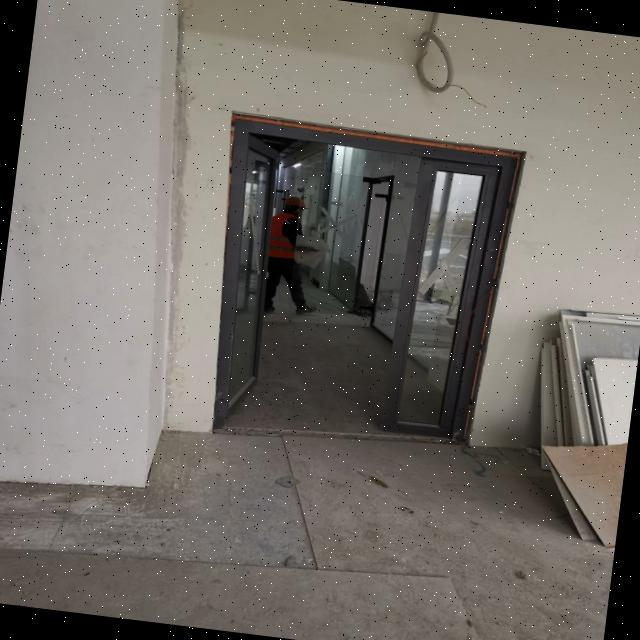Helmet: (283, 196, 310, 212)
Jacket: (267, 210, 303, 261)
